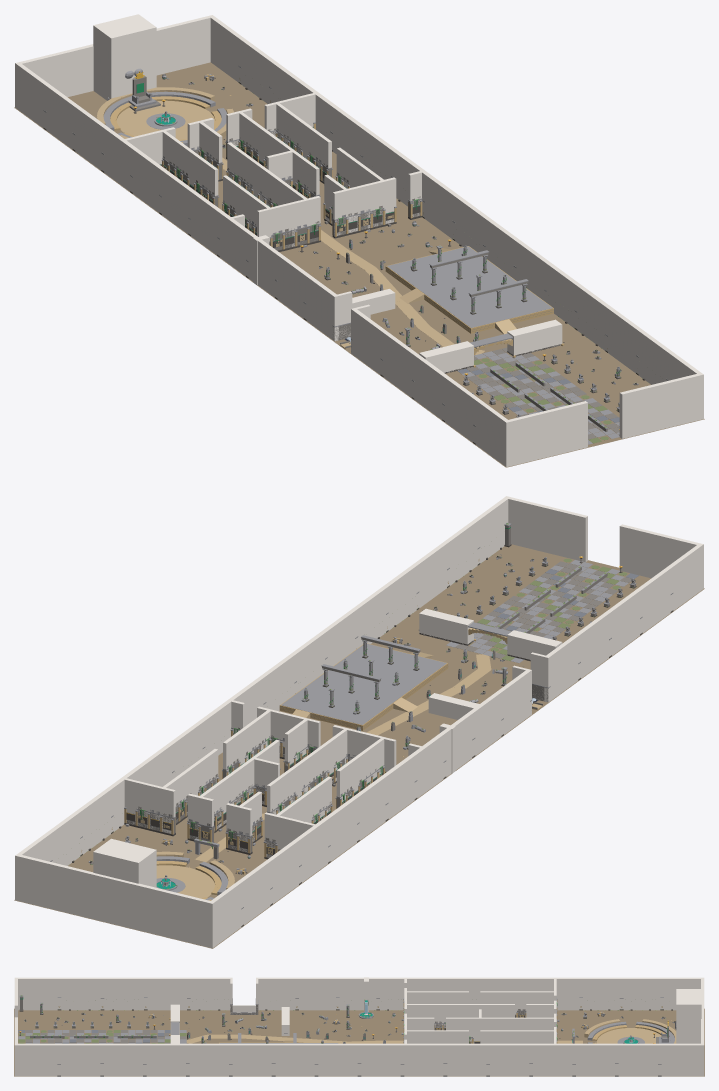
The model's file is CatCafe_Ruins_Set.fbx.
3 renders of one model, top to bottom at view 1: azimuth 30°, elevation 25°; view 2: azimuth 150°, elevation 25°; view 3: azimuth 270°, elevation 25°, orthographic. The views are drawn at different scales.
Parts seen in each view (by area): view 1: CatCafe_Ruins_Set_068_Walls_Barrier, CatCafe_Ruins_Set, CatCafe_Ruins_Set_087_GlyphHalls_Barrier, CatCafe_Ruins_Set_071_Stylobate, CatCafe_Ruins_Set_087_GlyphHalls, CatCafe_Ruins_Set_165_Colossus_Barrier, CatCafe_Ruins_Set_070_TriumphalArch_Barrier, CatCafe_Ruins_Set_088_CourtRings, CatCafe_Ruins_Set_086_Pediment_Barrier, CatCafe_Ruins_Set_069_BridgeBay_Barrier, CatCafe_Ruins_Set_090_Throne; view 2: CatCafe_Ruins_Set_068_Walls_Barrier, CatCafe_Ruins_Set, CatCafe_Ruins_Set_087_GlyphHalls_Barrier, CatCafe_Ruins_Set_071_Stylobate, CatCafe_Ruins_Set_087_GlyphHalls, CatCafe_Ruins_Set_070_TriumphalArch_Barrier, CatCafe_Ruins_Set_165_Colossus_Barrier, CatCafe_Ruins_Set_088_CourtRings, CatCafe_Ruins_Set_086_Pediment_Barrier; view 3: CatCafe_Ruins_Set_068_Walls_Barrier, CatCafe_Ruins_Set, CatCafe_Ruins_Set_087_GlyphHalls_Barrier, CatCafe_Ruins_Set_165_Colossus_Barrier, CatCafe_Ruins_Set_088_CourtRings, CatCafe_Ruins_Set_087_GlyphHalls, CatCafe_Ruins_Set_069_BridgeBay_Barrier, CatCafe_Ruins_Set_070_TriumphalArch_Barrier, CatCafe_Ruins_Set_086_Pediment_Barrier, CatCafe_Ruins_Set_071_Stylobate.
Part boxes in pixels (box(x1,y1,x2,y2)): CatCafe_Ruins_Set_068_Walls_Barrier: box(15, 15, 703, 467); CatCafe_Ruins_Set: box(14, 62, 704, 467); CatCafe_Ruins_Set_087_GlyphHalls_Barrier: box(125, 93, 421, 246); CatCafe_Ruins_Set_071_Stylobate: box(385, 246, 553, 334); CatCafe_Ruins_Set_087_GlyphHalls: box(159, 122, 422, 251); CatCafe_Ruins_Set_165_Colossus_Barrier: box(93, 14, 156, 100); CatCafe_Ruins_Set_070_TriumphalArch_Barrier: box(419, 319, 562, 372); CatCafe_Ruins_Set_088_CourtRings: box(97, 87, 233, 146); CatCafe_Ruins_Set_086_Pediment_Barrier: box(352, 289, 395, 314); CatCafe_Ruins_Set_069_BridgeBay_Barrier: box(332, 291, 370, 340); CatCafe_Ruins_Set_090_Throne: box(128, 71, 160, 111); CatCafe_Ruins_Set_068_Walls_Barrier: box(15, 496, 703, 948); CatCafe_Ruins_Set: box(14, 544, 704, 948); CatCafe_Ruins_Set_087_GlyphHalls_Barrier: box(124, 700, 421, 857); CatCafe_Ruins_Set_071_Stylobate: box(279, 643, 448, 730); CatCafe_Ruins_Set_087_GlyphHalls: box(124, 727, 386, 859); CatCafe_Ruins_Set_070_TriumphalArch_Barrier: box(419, 608, 562, 659); CatCafe_Ruins_Set_165_Colossus_Barrier: box(93, 838, 156, 887); CatCafe_Ruins_Set_088_CourtRings: box(156, 851, 234, 900); CatCafe_Ruins_Set_086_Pediment_Barrier: box(428, 693, 479, 719); CatCafe_Ruins_Set_068_Walls_Barrier: box(14, 977, 704, 1076); CatCafe_Ruins_Set: box(14, 1008, 704, 1076); CatCafe_Ruins_Set_087_GlyphHalls_Barrier: box(404, 979, 556, 1043); CatCafe_Ruins_Set_165_Colossus_Barrier: box(676, 989, 701, 1043); CatCafe_Ruins_Set_088_CourtRings: box(584, 1019, 676, 1043); CatCafe_Ruins_Set_087_GlyphHalls: box(401, 997, 559, 1043); CatCafe_Ruins_Set_069_BridgeBay_Barrier: box(230, 977, 258, 1014); CatCafe_Ruins_Set_070_TriumphalArch_Barrier: box(170, 1004, 179, 1043); CatCafe_Ruins_Set_086_Pediment_Barrier: box(281, 1007, 289, 1035); CatCafe_Ruins_Set_071_Stylobate: box(219, 1040, 338, 1043).
Size of the model in its own units: 140 by 44.33 by 600.
Materials: 1 (1 with a texture image).
